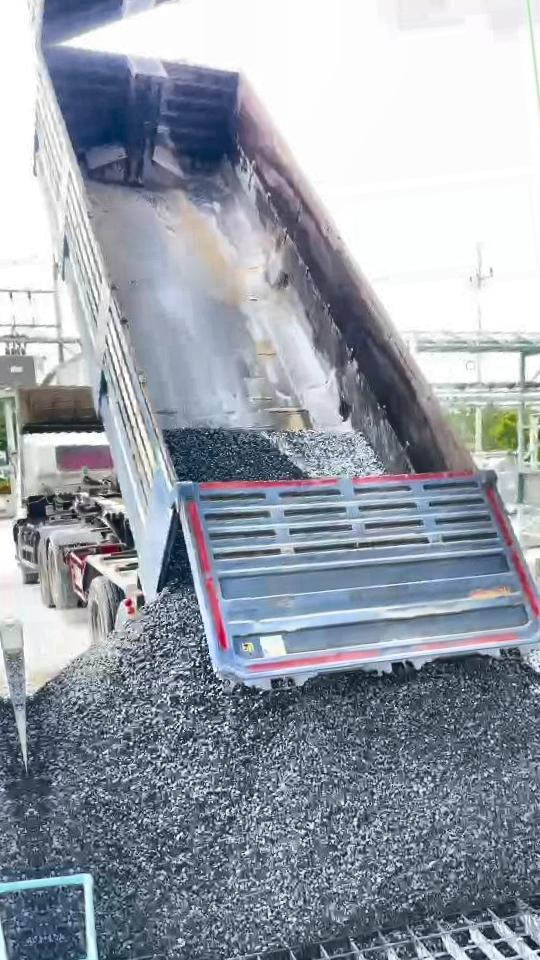gravel: (27, 541, 540, 959), (164, 428, 388, 480), (39, 885, 87, 960), (529, 626, 540, 737)
